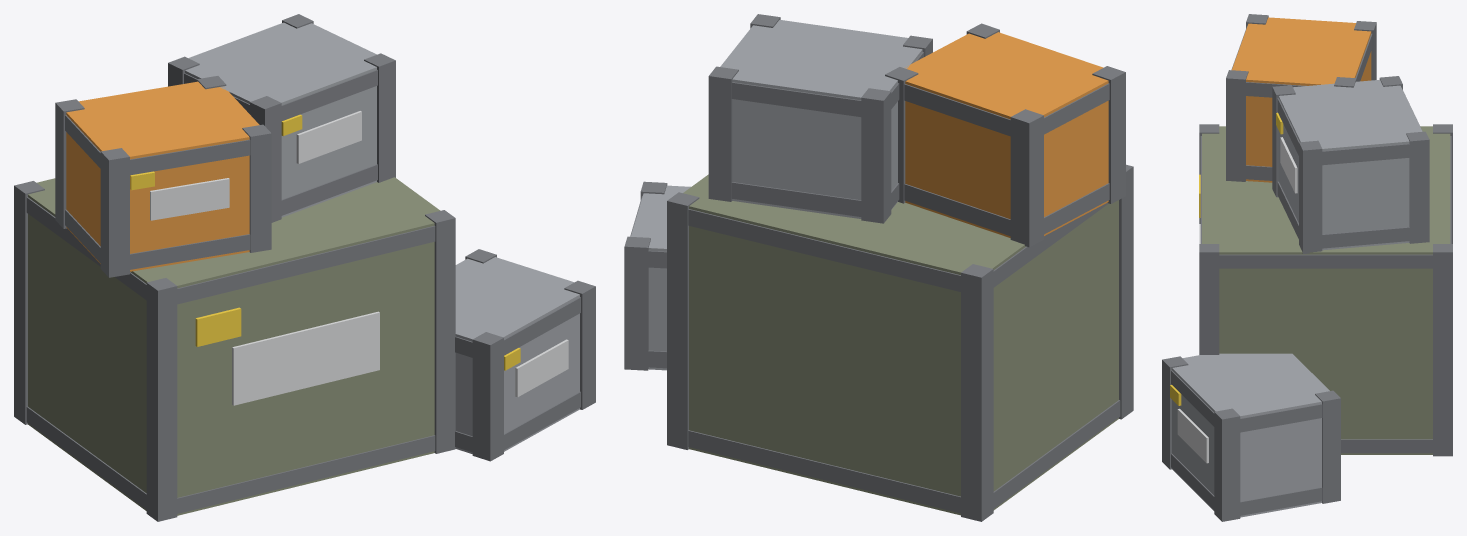
File: SM_Crate_Stack.glb
The picture shows the model from 3 angles, left to right: view 1: azimuth 30°, elevation 25°; view 2: azimuth 150°, elevation 25°; view 3: azimuth 270°, elevation 25°; orthographic projection. The views are drawn at different scales.
Parts seen in each view (by area): view 1: SM_Crate_Stack; view 2: SM_Crate_Stack; view 3: SM_Crate_Stack.
Boxes of the visible parts, box(x1,y1,x2,y2) form: SM_Crate_Stack: box(14, 14, 595, 521); SM_Crate_Stack: box(624, 14, 1133, 521); SM_Crate_Stack: box(1162, 14, 1452, 521).
Bounding box in the file's own units: 1.93 × 1.36 × 1.17.
